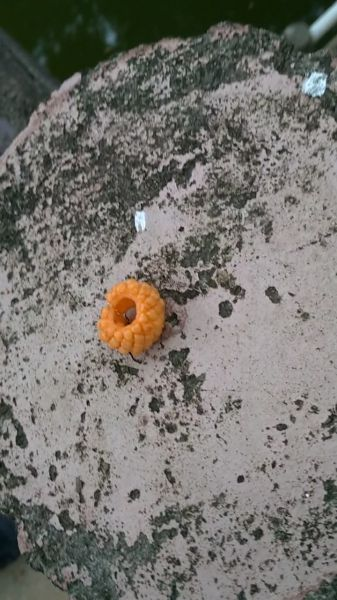eggs: (90, 273, 174, 355)
